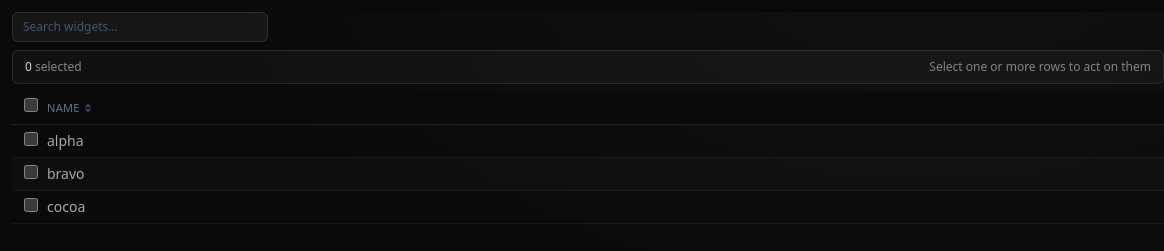
Test: DataTable — row actions in one bar › a verb no selected row can take is DISABLED and carries the reason
Click the checkbox named "Select bravo" at [31, 172], box top-left (24, 165), bottom-right (38, 179)
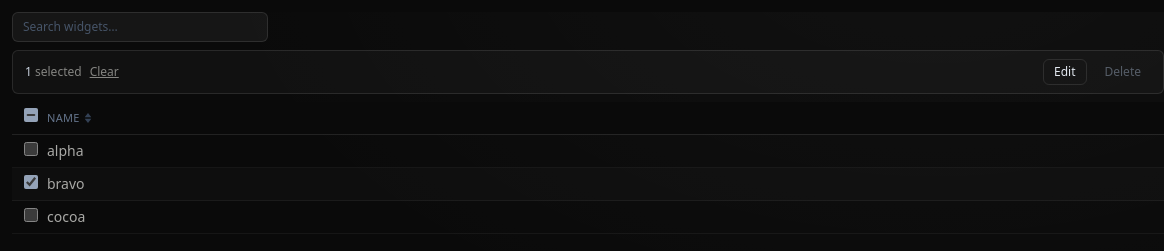
Expected: the button "Delete" is disabled, top-left (1094, 60), bottom-right (1151, 84)
